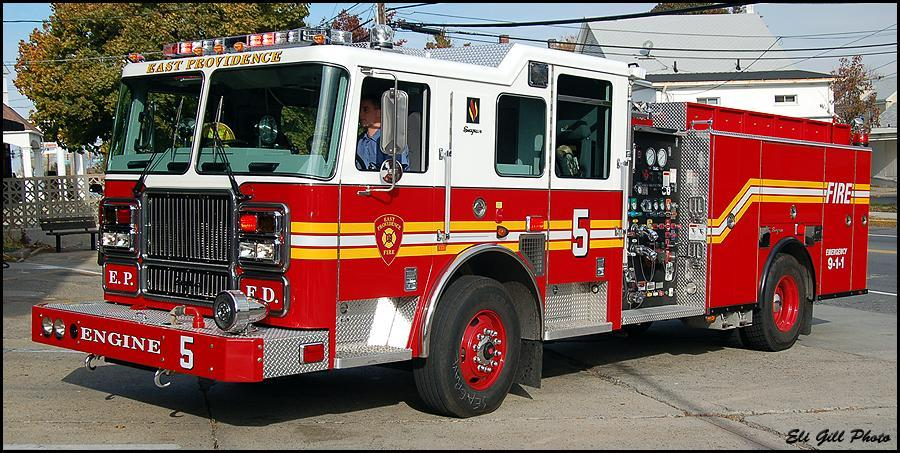Fire-engine: (30, 18, 881, 419)
